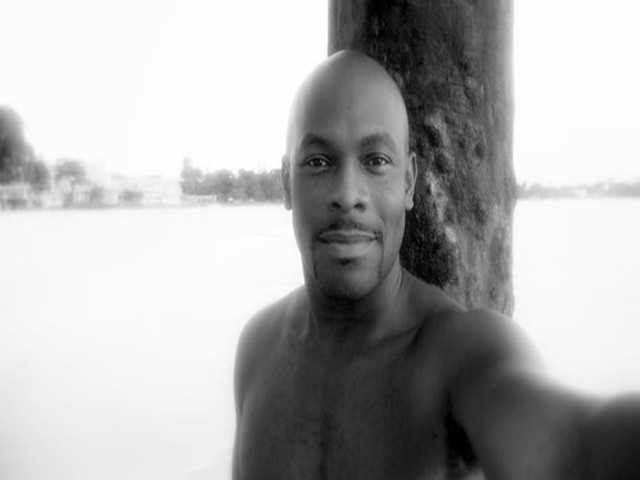Person: (229, 43, 596, 476)
